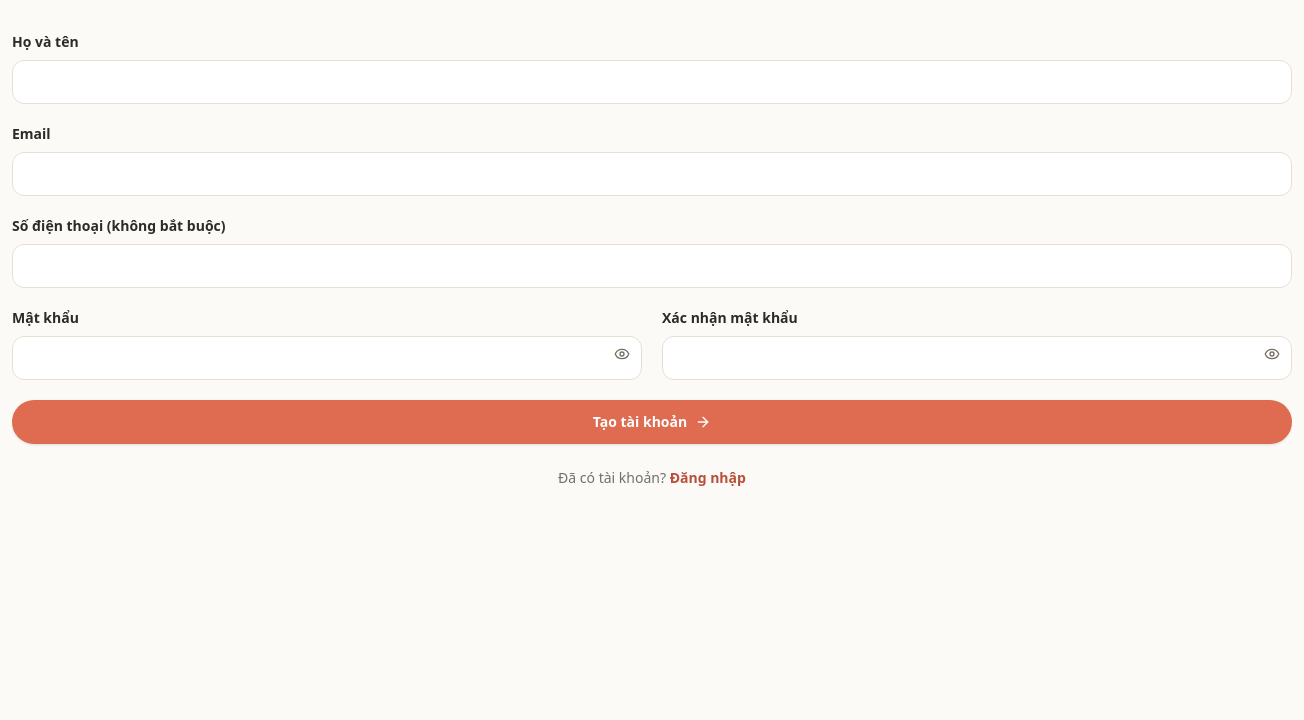
Scenario: RegisterForm › gives immediate weak-password length feedback
The width and height of the screenshot is (1304, 720).
In the field labelled "Họ và tên": (652, 82) [12,60,1292,104], type "  Test User  "
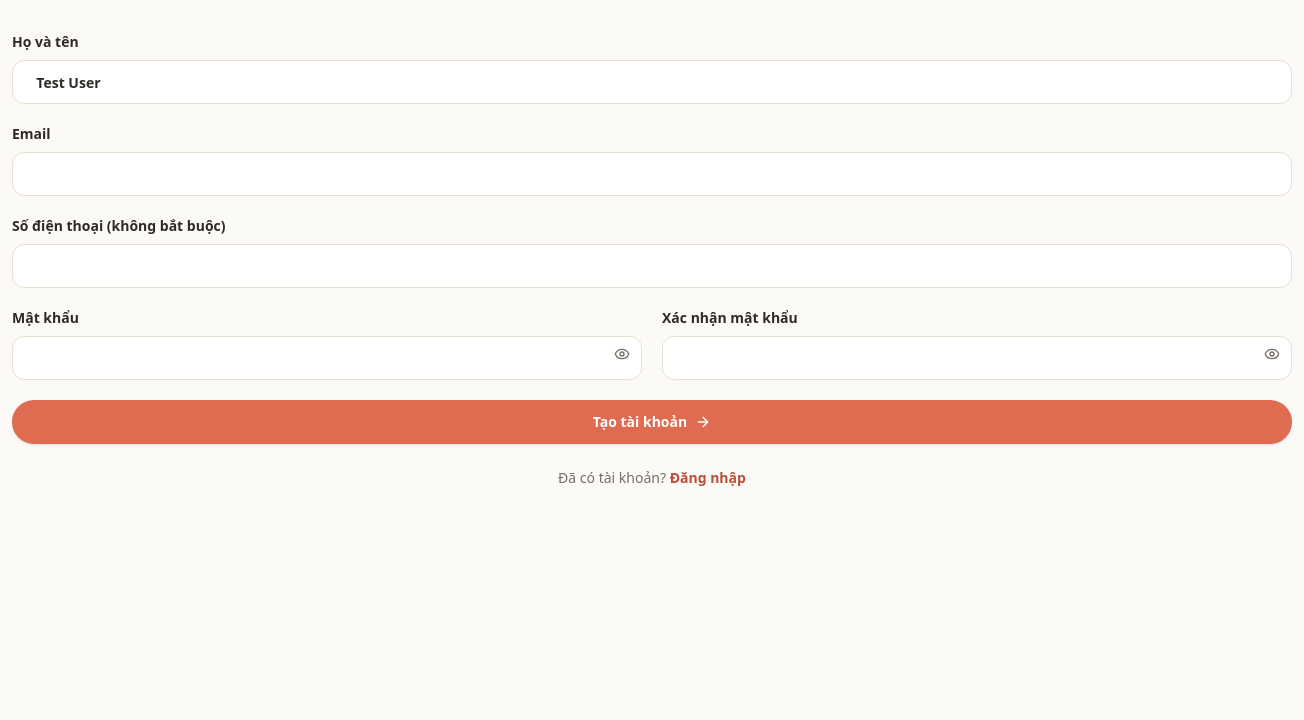
In the field labelled "Email": (652, 174) [12,152,1292,196], type " user@example.com "
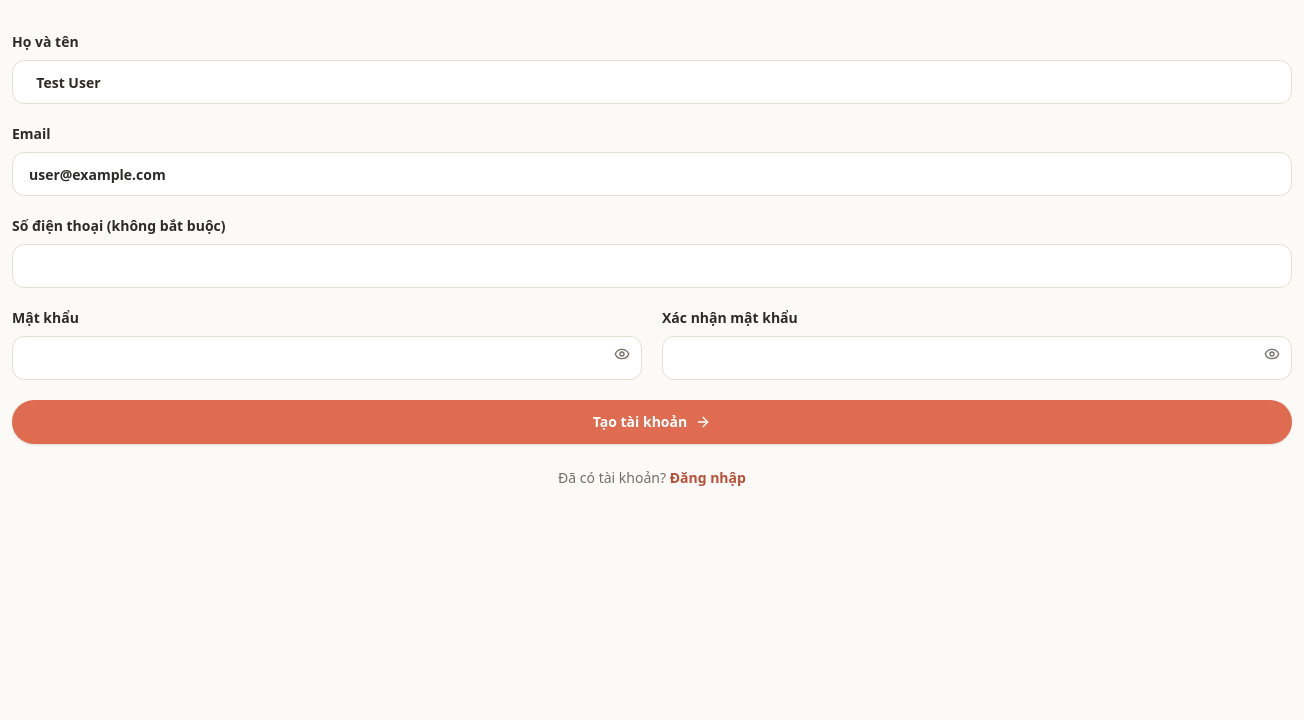
In the field labelled "Số điện thoại (không bắt buộc)": (652, 266) [12,244,1292,288], type "+84 901-234-567"
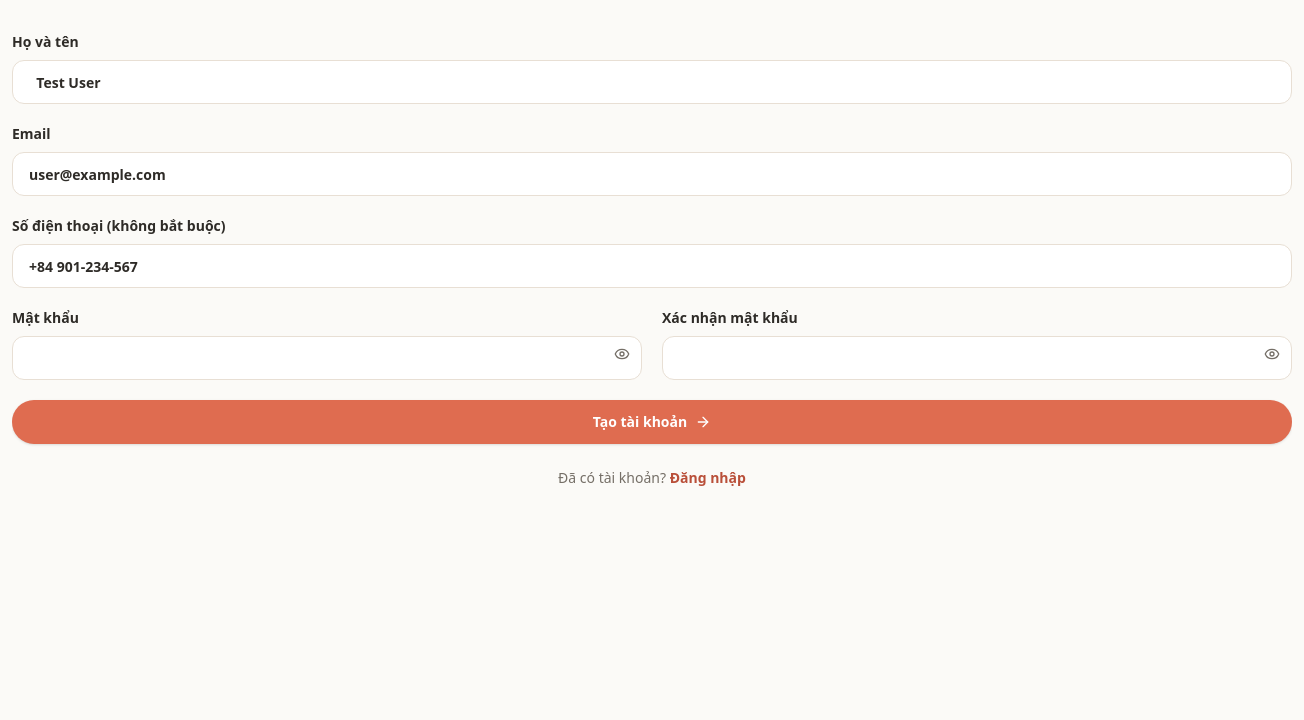
In the password field labelled "Mật khẩu": (327, 358) [12,336,642,380], type "too short"
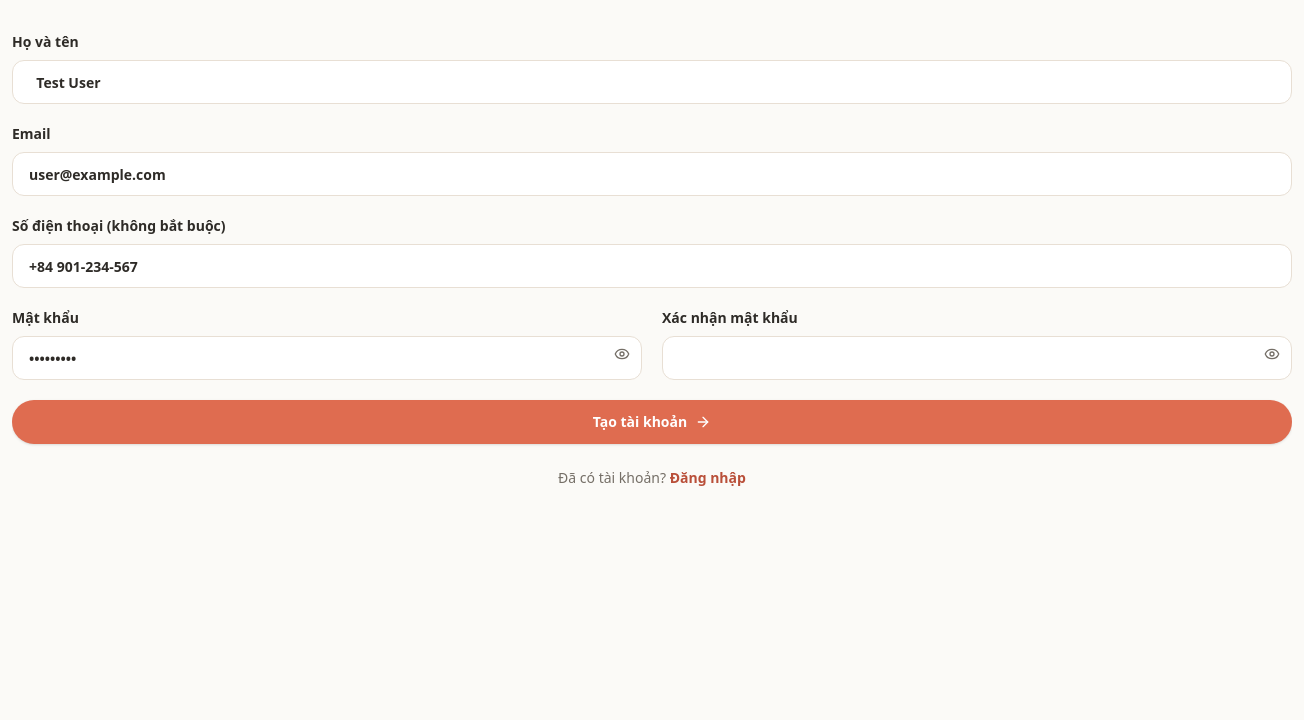
In the password field labelled "Xác nhận mật khẩu": (977, 358) [662,336,1292,380], type "too short"
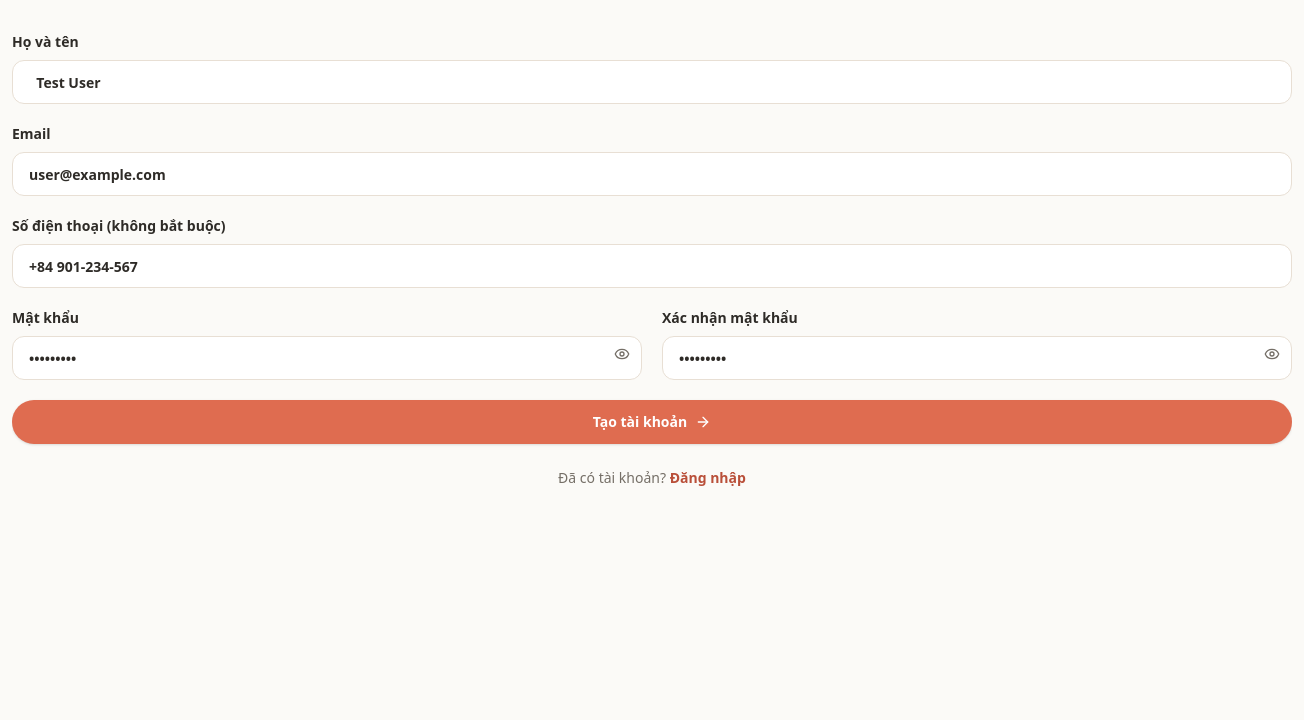
Submit the form named "Tạo tài khoản", box [12,32,1292,444]
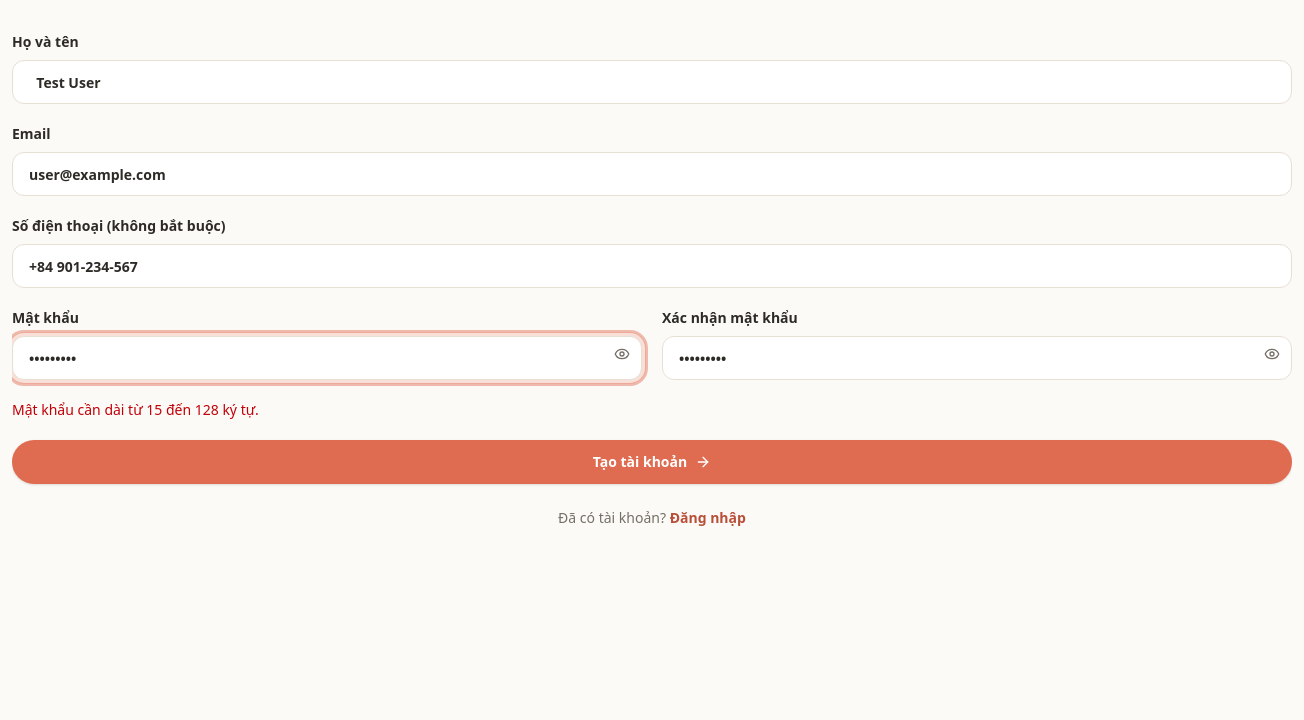
Check: the message reads "Mật khẩu cần dài từ 15 đến 128 ký tự.", box [12,400,259,419]
